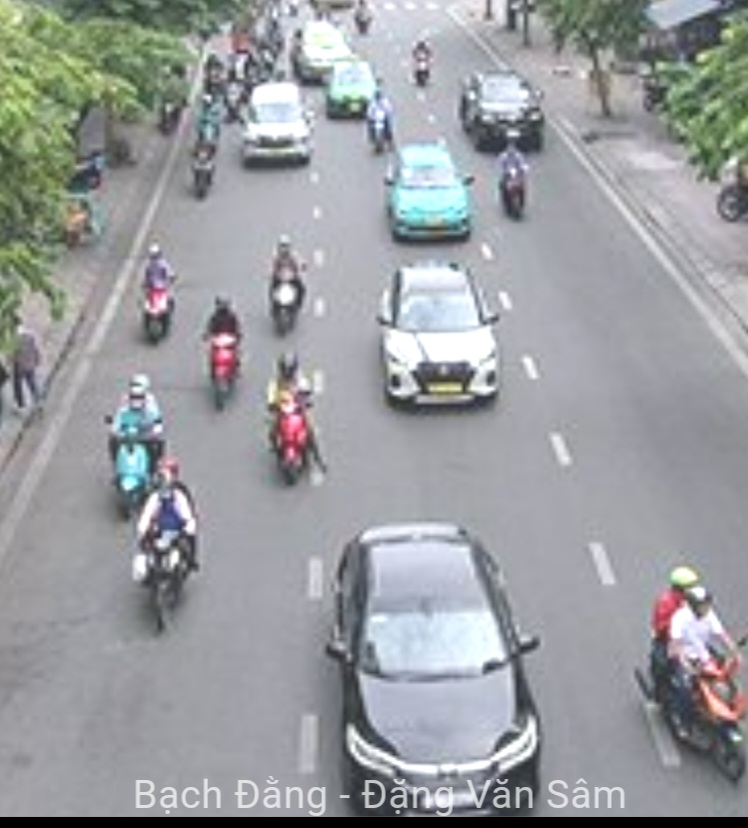car: (332, 528, 540, 804), (379, 264, 499, 411), (384, 147, 475, 246), (461, 70, 545, 148), (241, 83, 312, 169), (326, 60, 378, 119)
